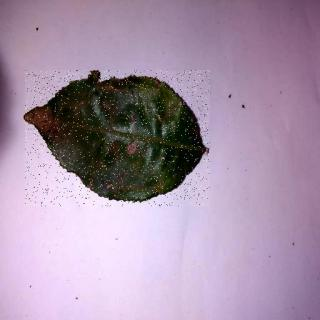Anthracnose: (27, 71, 212, 207)
